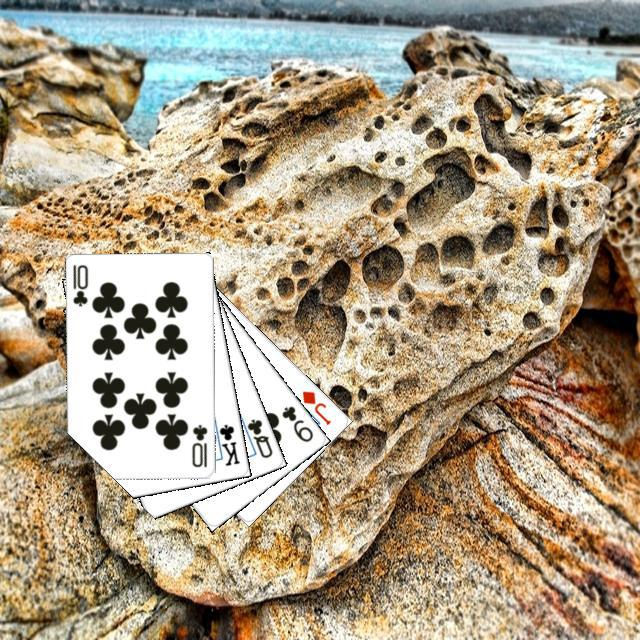10c: (187, 420, 209, 469), (68, 260, 90, 308)
9c: (277, 401, 315, 444)
Jd: (297, 385, 333, 427)
Kc: (209, 416, 242, 468)
Qc: (236, 414, 274, 460)
